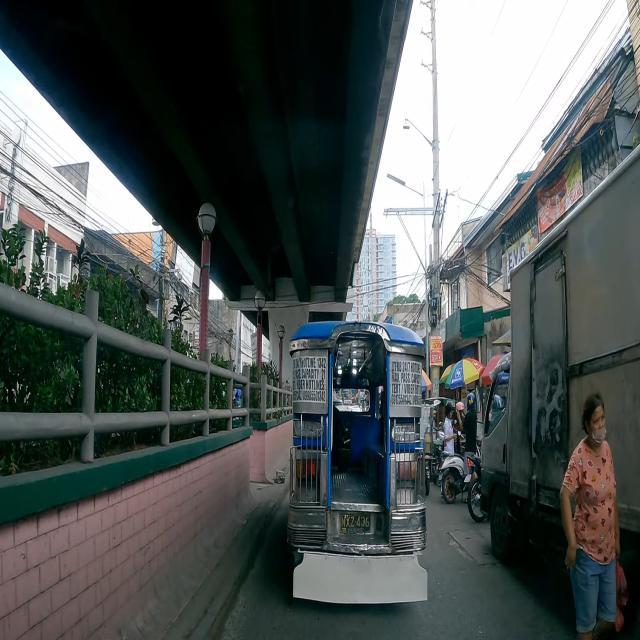jeepney: (291, 324, 427, 603)
motorcycle: (463, 454, 488, 523), (438, 453, 466, 505)
truck: (480, 142, 640, 640)
